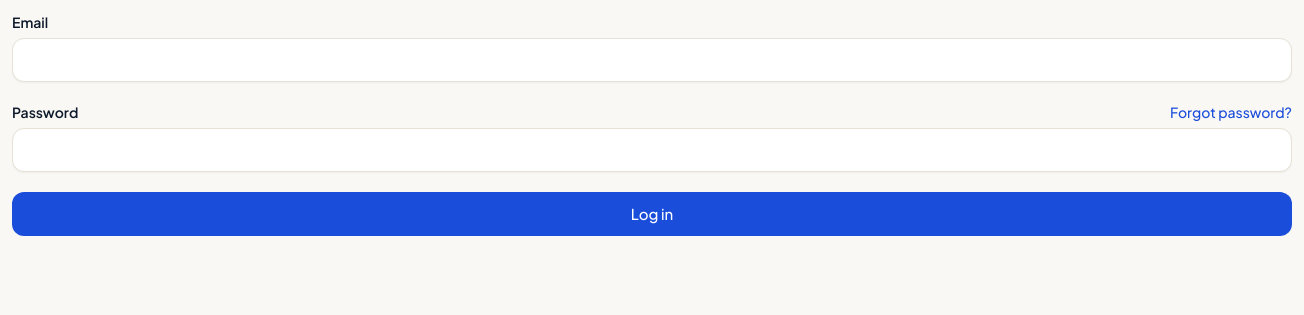
LoginForm › shows the server's generic error and stays on the page
Step 1. Type "demo@taskflow.app" into the field labelled "Email" → (652, 60), box [12,38,1292,82]
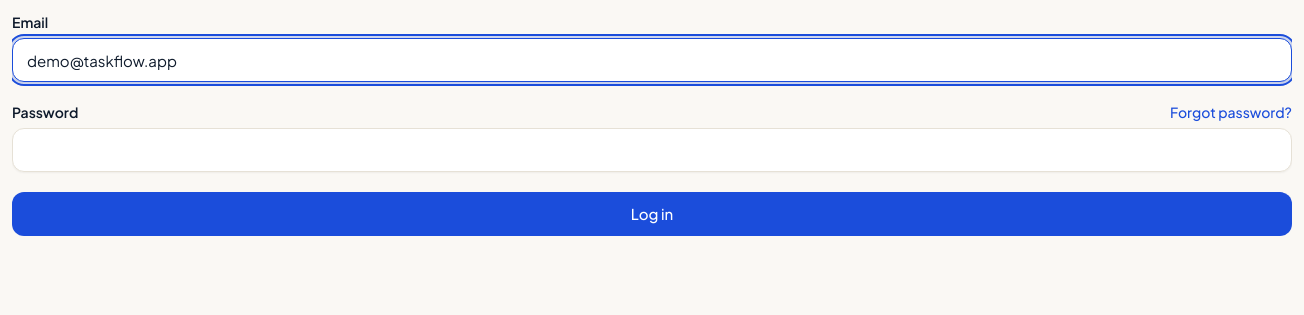
Step 2. Type "wrong-password" into the password field labelled "Password" → (652, 150), box [12,128,1292,172]
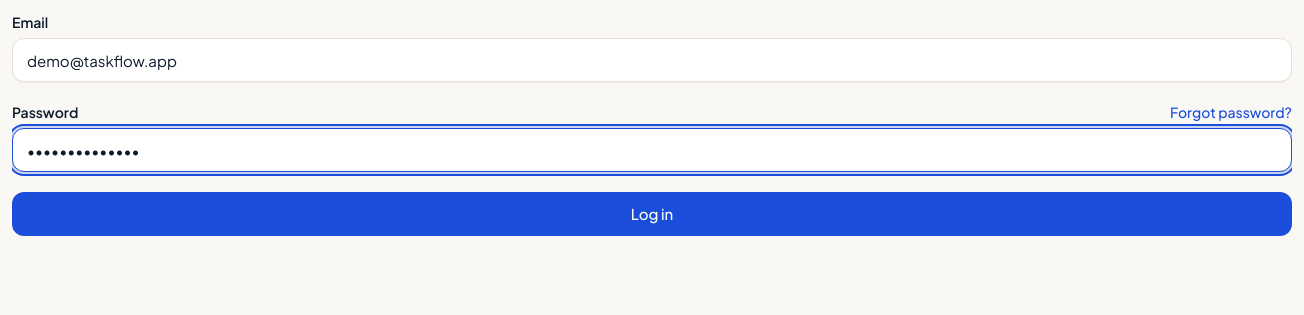
Step 3. Click the button "Log in" → (652, 214), box [12,192,1292,236]
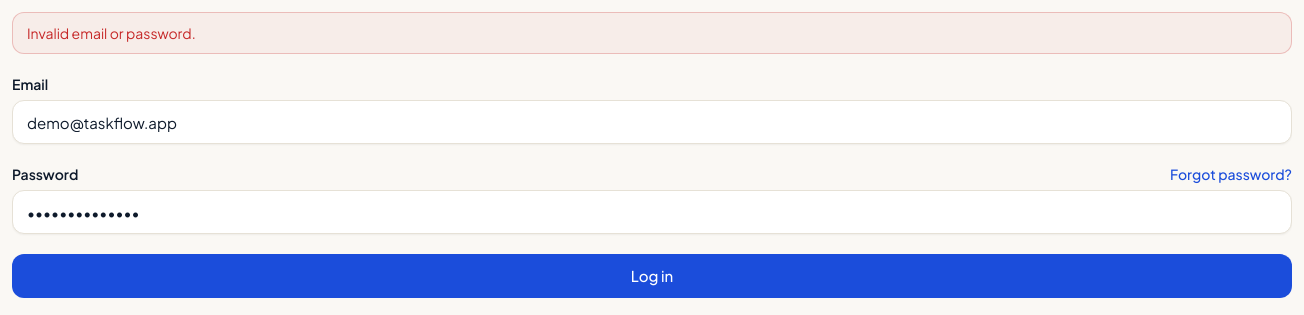
Expected: the button "Log in" is enabled, [12,254,1292,298]
Result: the message reads "Invalid email or password." at [27,24,196,42]
